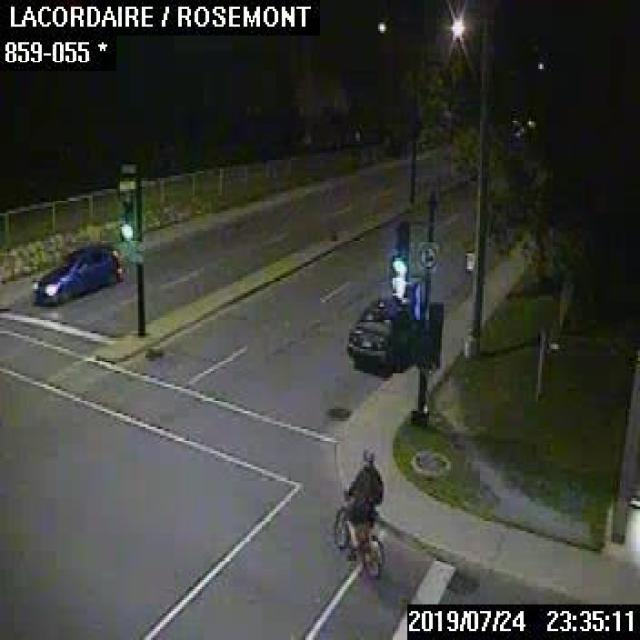cyclist: (332, 448, 384, 580)
vehicle: (31, 241, 121, 303), (345, 296, 409, 367)
